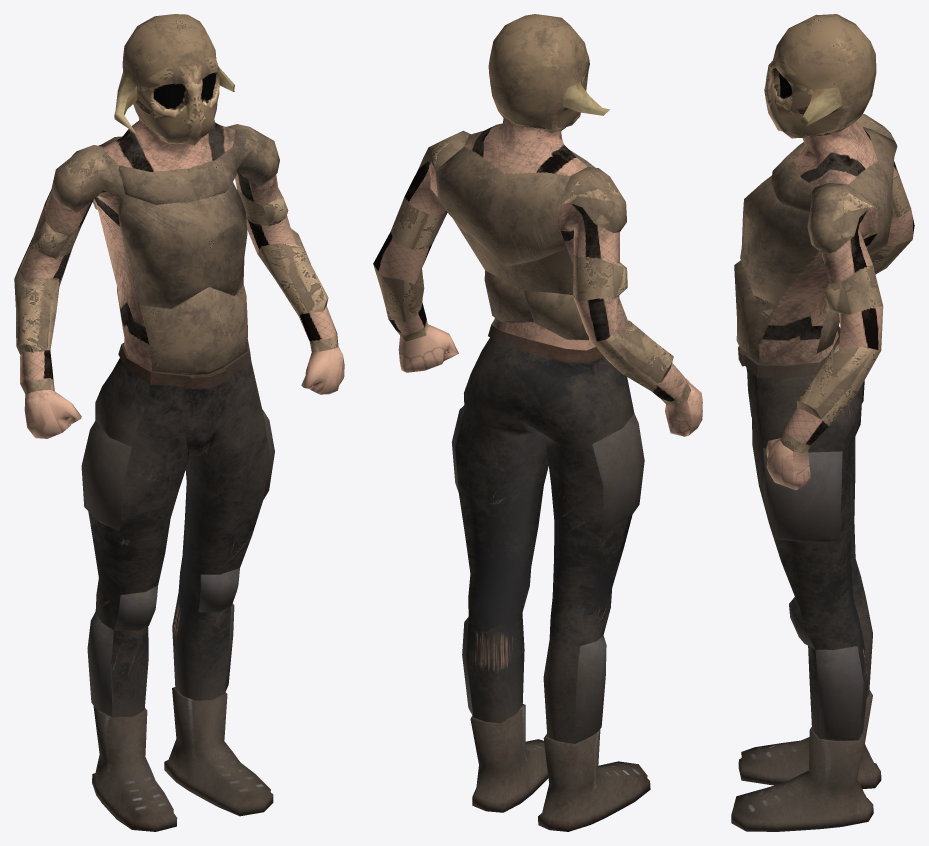
File: Anim_ataque_d2_npc1.0011.obj
3 views of the same model, side by side, from view 1: azimuth 30°, elevation 25°; view 2: azimuth 150°, elevation 25°; view 3: azimuth 270°, elevation 25° (orthographic).
Parts seen in each view (by area): view 1: NPC2; view 2: NPC2; view 3: NPC2.
Boxes of the visible parts, left/top/right/bottom form: NPC2: left=14, top=14, right=344, bottom=831; NPC2: left=373, top=14, right=702, bottom=831; NPC2: left=731, top=14, right=914, bottom=831.
Bounding box in the file's own units: 4 × 9.64 × 2.05.
